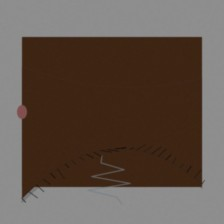foreign_body_visible: (74, 126, 101, 148)
